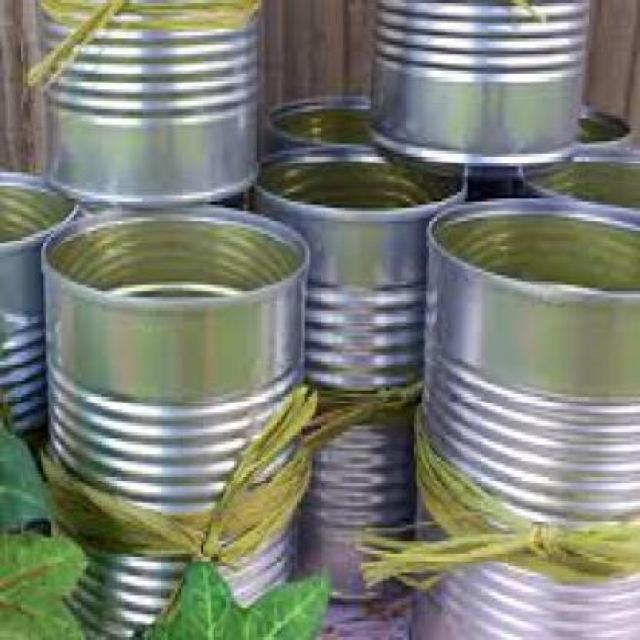BIODEGRADABLE: (140, 557, 328, 637), (0, 525, 89, 637), (0, 419, 46, 532)
METAL: (40, 201, 308, 637), (246, 137, 468, 598), (412, 195, 638, 637), (35, 0, 257, 202), (368, 0, 589, 177), (0, 169, 74, 448), (264, 95, 390, 151), (515, 150, 637, 205), (546, 102, 629, 150)
